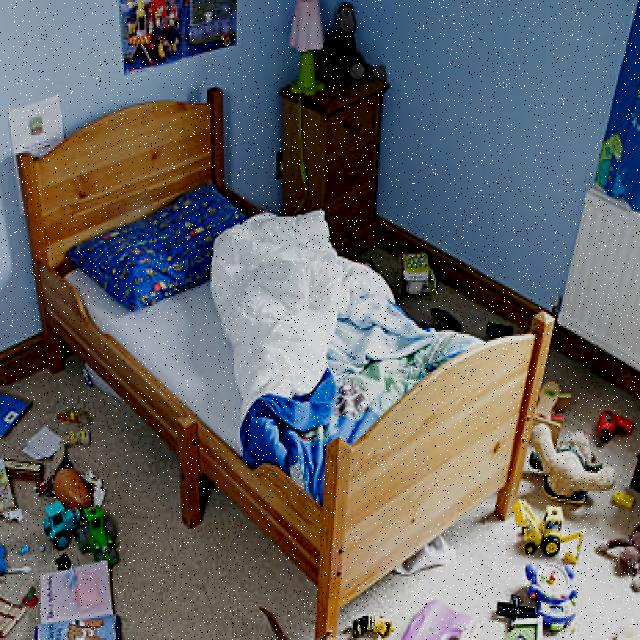bed: (57, 176, 502, 503)
